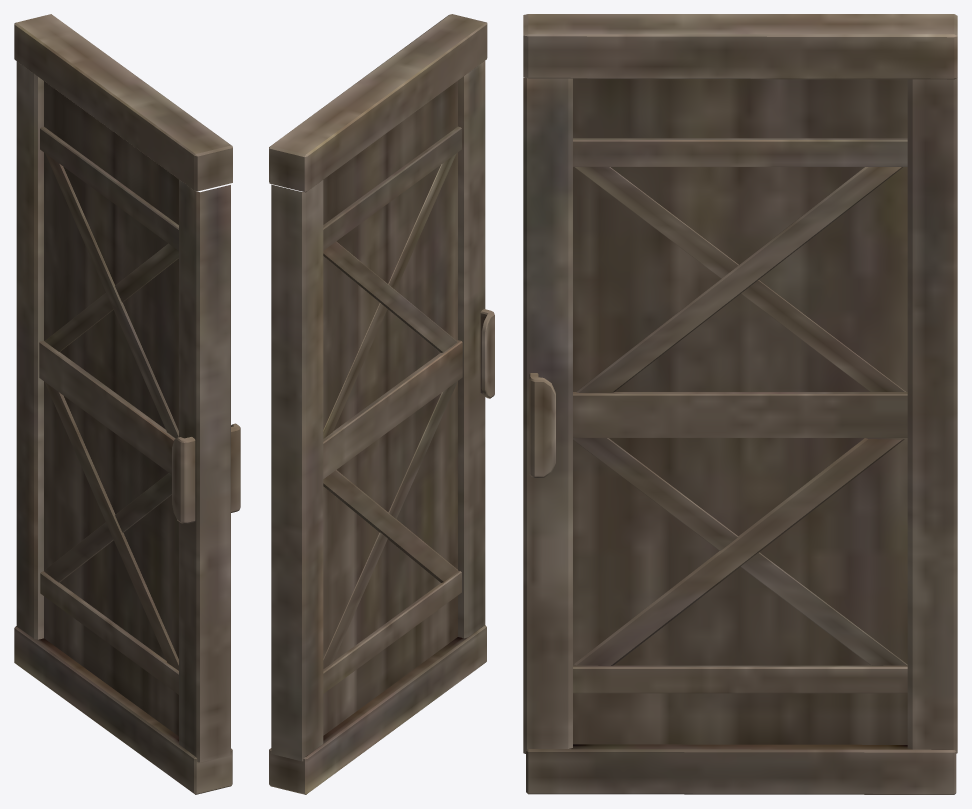
File: SM_Door_Wood_21a16c.glb
3 renders of one model, left to right at view 1: azimuth 30°, elevation 25°; view 2: azimuth 150°, elevation 25°; view 3: azimuth 270°, elevation 25°, orthographic. The views are drawn at different scales.
Size of the model in its own units: 0.226 by 2.32 by 1.2.
Materials: 1 (1 with a texture image).
